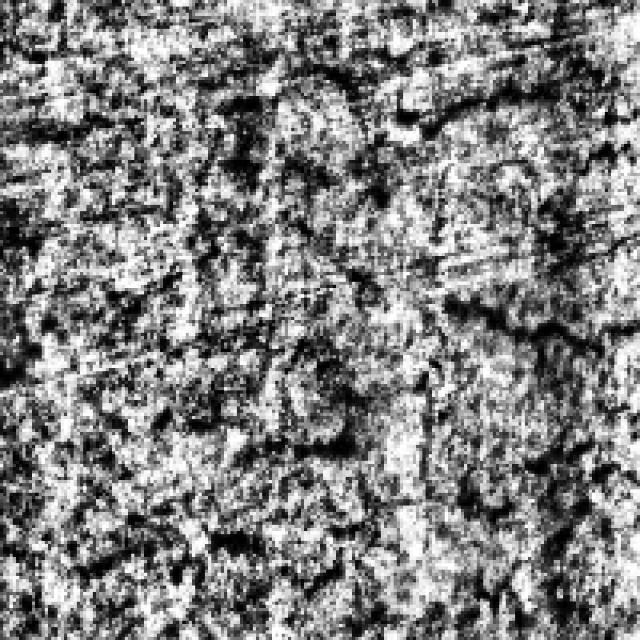Pitted_Surface: (51, 381, 410, 608), (170, 55, 634, 202), (436, 284, 630, 630)
